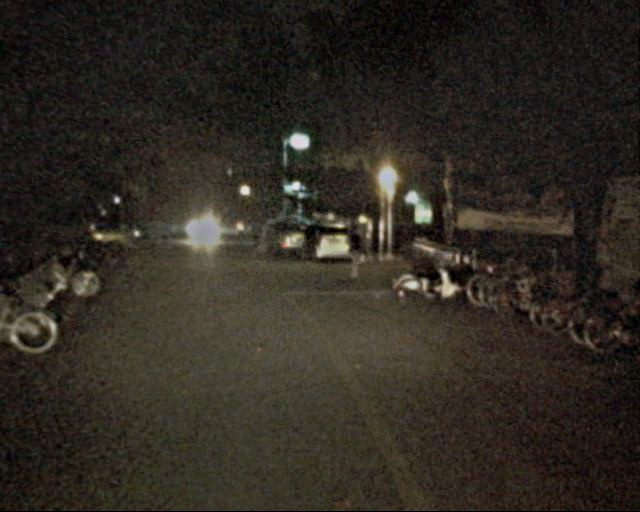person: (340, 225, 363, 282), (246, 221, 260, 256)
